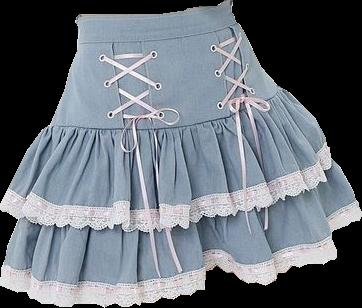Hemline: (0, 216, 361, 307), (0, 158, 333, 230)
Waistline: (48, 87, 281, 131), (76, 22, 237, 46), (75, 0, 232, 20)
